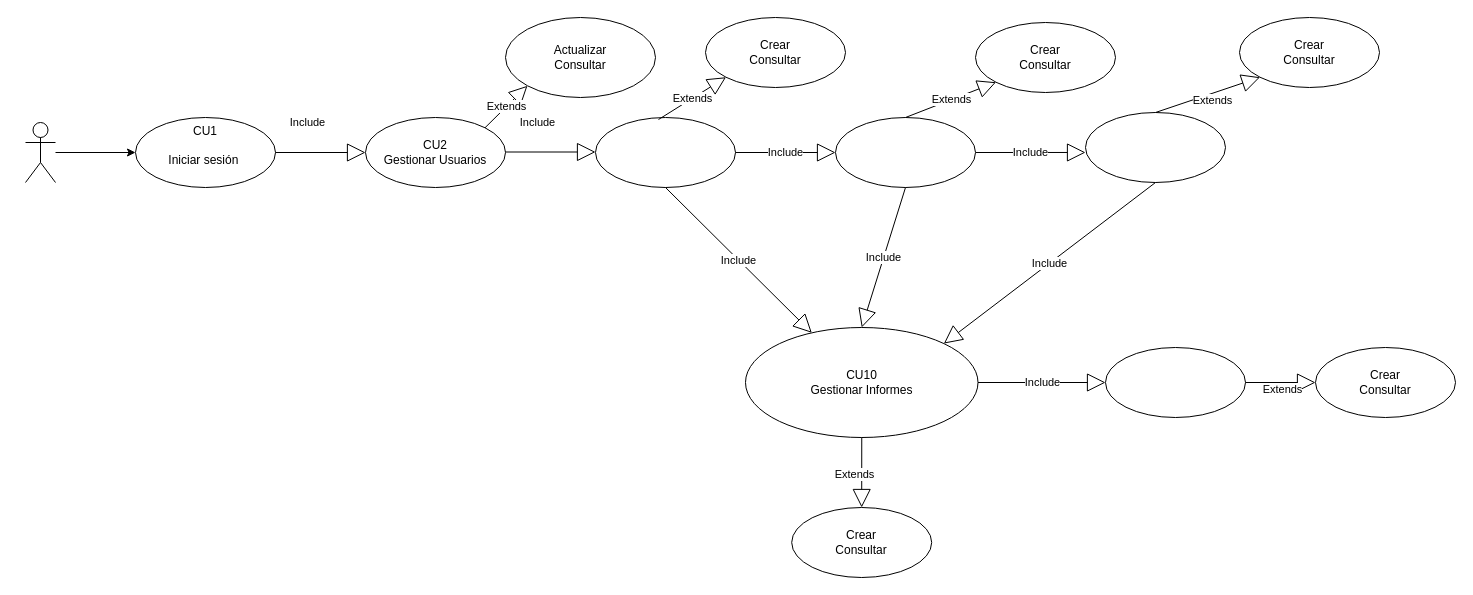
Some shapes in this 1473 by 595 pixel diagram are drawn without their labels. Each missing label, with the centre of its shape:
"Almacén" goes at (40,152).
"CU3 Gestionar Categorías" goes at (665,152).
"CU4 Gestionar Subcategorías" goes at (905,152).
"CU5 Gestionar Alertas" goes at (1175,382).
"CU8 Gestionar Producción" goes at (1155,147).
